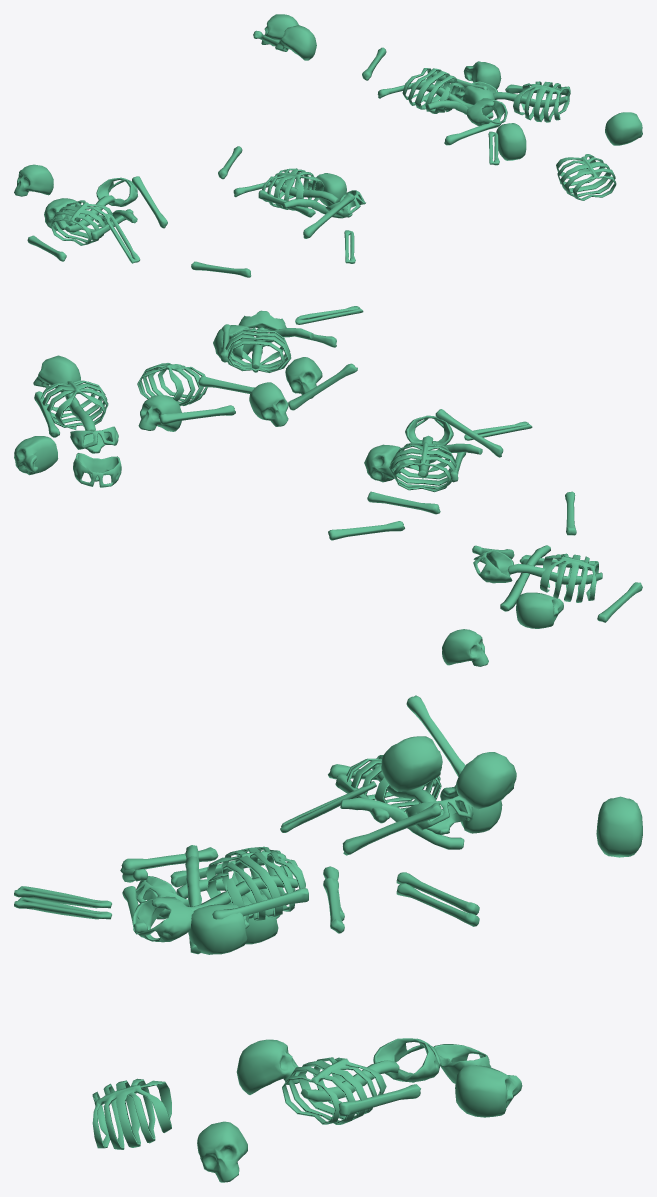
Rendered from Coffin_04B_Lod0.fbx.
The picture shows the model from 3 angles, top to bottom: view 1: azimuth 30°, elevation 25°; view 2: azimuth 150°, elevation 25°; view 3: azimuth 270°, elevation 25°; orthographic projection. The views are drawn at different scales.
Visible parts, largest first — view 1: Coffin_04B_Lod0; view 2: Coffin_04B_Lod0; view 3: Coffin_04B_Lod0.
Part boxes in pixels (left/top/right/bottom): Coffin_04B_Lod0: left=14, top=14, right=642, bottom=277; Coffin_04B_Lod0: left=14, top=306, right=642, bottom=666; Coffin_04B_Lod0: left=14, top=695, right=642, bottom=1182.
Size of the model in its own units: 300 by 89.68 by 183.
